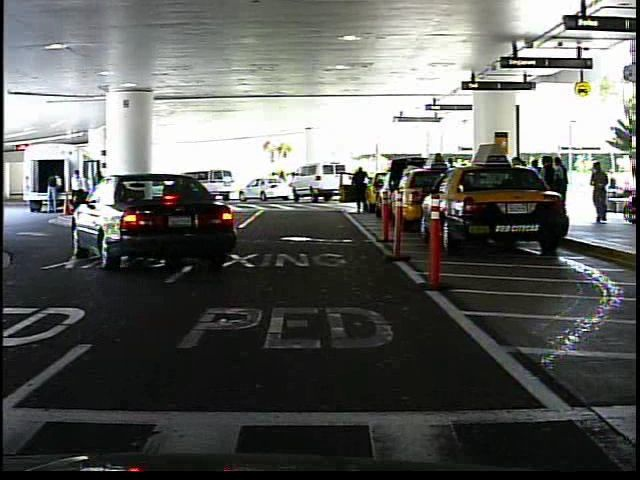person: (589, 157, 611, 223), (351, 164, 374, 217), (277, 168, 288, 196), (269, 170, 281, 177)
